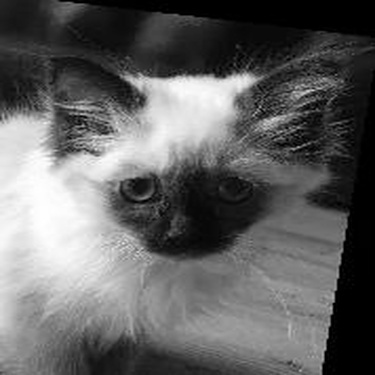cat: (5, 44, 354, 370)
